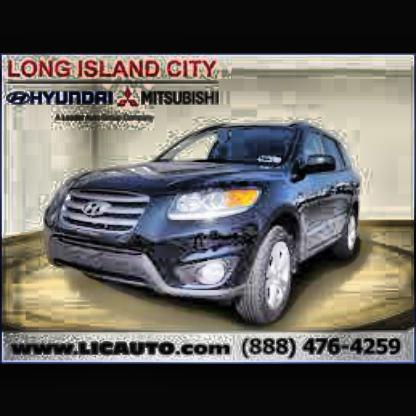Hyundai Santa Fe SUV 2012: (48, 126, 367, 321)
